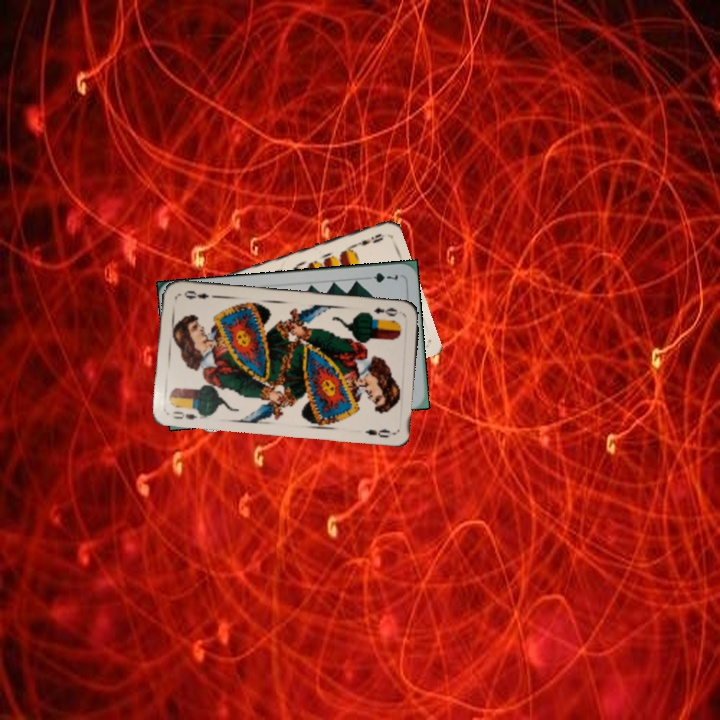E9: (348, 229, 387, 250)
EO: (169, 403, 206, 422), (370, 303, 405, 319)
G7: (361, 268, 400, 285)
